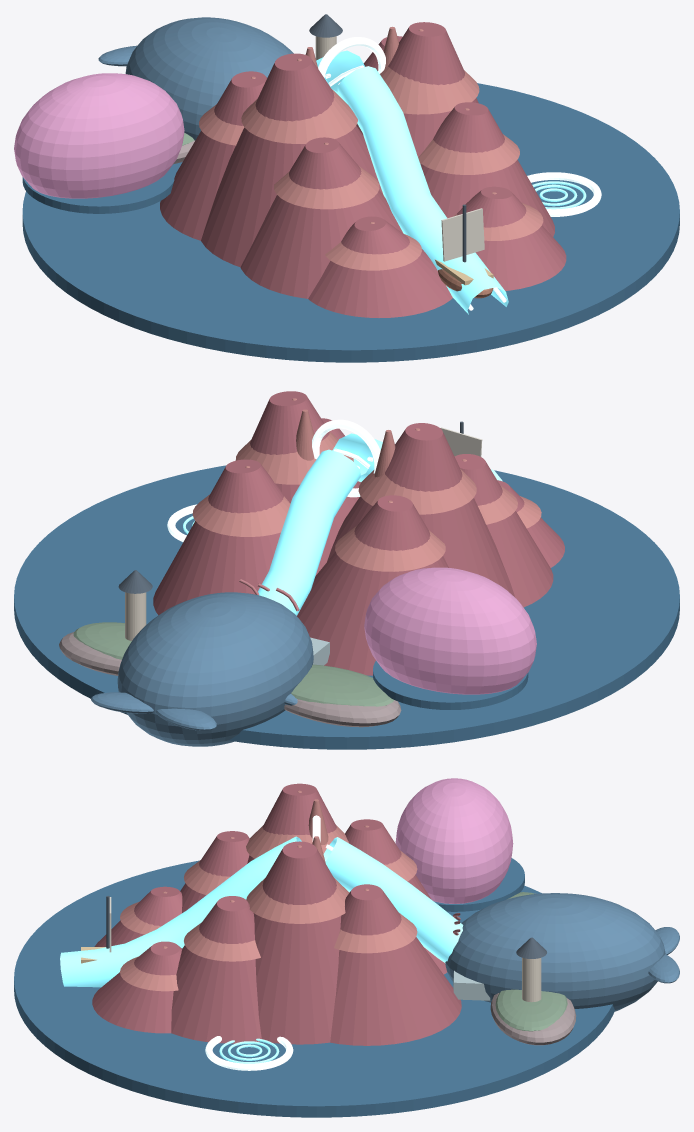
File: reverse-mountain-twin-cape-voyage.glb
3 renders of one model, top to bottom at view 1: azimuth 30°, elevation 25°; view 2: azimuth 150°, elevation 25°; view 3: azimuth 270°, elevation 25°, orthographic. The views are drawn at different scales.
Visible parts, largest first — view 1: Grand Line local water, Laboon interior shell, Red Line peak -1 2, Red Line peak -1 1, East Blue uphill current, Laboon body, Red Line peak -1 0, Red Line peak 1 1, Red Line peak -1 3, Red Line peak 1 0, Red Line peak 1 2, Red Line cap -1 2 (+11 smaller); view 2: Grand Line local water, Laboon body, Laboon interior shell, Red Line peak -1 3, Red Line peak 1 3, Red Line peak -1 2, Grand Line descent current, Red Line peak -1 1, Red Line peak 1 2, Twin Cape grass, Red Line cap -1 3, Interior water stage (+16 smaller); view 3: Grand Line local water, Laboon body, Red Line peak 1 2, Red Line peak 1 3, Laboon interior shell, Red Line peak 1 1, East Blue uphill current, Grand Line descent current, Red Line peak 1 0, Red Line peak -1 2, Red Line cap 1 2, Twin Cape grass.001 (+16 smaller).
Part boxes in pixels (<box>): Grand Line local water: <box>22,83,679,362</box>; Laboon interior shell: <box>14,73,184,198</box>; Red Line peak -1 2: <box>201,53,383,267</box>; Red Line peak -1 1: <box>240,137,403,298</box>; East Blue uphill current: <box>337,66,508,314</box>; Laboon body: <box>125,17,293,140</box>; Red Line peak -1 0: <box>308,216,452,317</box>; Red Line peak 1 1: <box>420,102,554,236</box>; Red Line peak -1 3: <box>160,71,267,240</box>; Red Line peak 1 0: <box>457,186,566,290</box>; Red Line peak 1 2: <box>356,22,478,163</box>; Red Line cap -1 2: <box>241,58,357,143</box>; Grand Line local water: <box>14,465,679,749</box>; Laboon body: <box>117,592,313,746</box>; Laboon interior shell: <box>364,567,536,694</box>; Red Line peak -1 3: <box>297,495,448,675</box>; Red Line peak 1 3: <box>153,459,321,615</box>; Red Line peak -1 2: <box>327,423,515,597</box>; Grand Line descent current: <box>258,449,360,615</box>; Red Line peak -1 1: <box>454,454,553,607</box>; Red Line peak 1 2: <box>250,391,360,567</box>; Twin Cape grass: <box>291,664,394,706</box>; Red Line cap -1 3: <box>335,500,445,571</box>; Interior water stage: <box>373,660,528,709</box>; Grand Line local water: <box>14,860,614,1117</box>; Laboon body: <box>445,893,665,1011</box>; Red Line peak 1 2: <box>253,841,341,1044</box>; Red Line peak 1 3: <box>330,884,461,1045</box>; Laboon interior shell: <box>395,778,513,903</box>; Red Line peak 1 1: <box>171,896,261,1043</box>; East Blue uphill current: <box>60,836,301,987</box>; Grand Line descent current: <box>323,837,463,963</box>; Red Line peak 1 0: <box>92,941,182,1033</box>; Red Line peak -1 2: <box>247,783,336,863</box>; Red Line cap 1 2: <box>246,845,349,923</box>; Twin Cape grass.001: <box>495,989,567,1031</box>.
Bounding box in the file's own units: 36 × 12.71 × 39.62.
